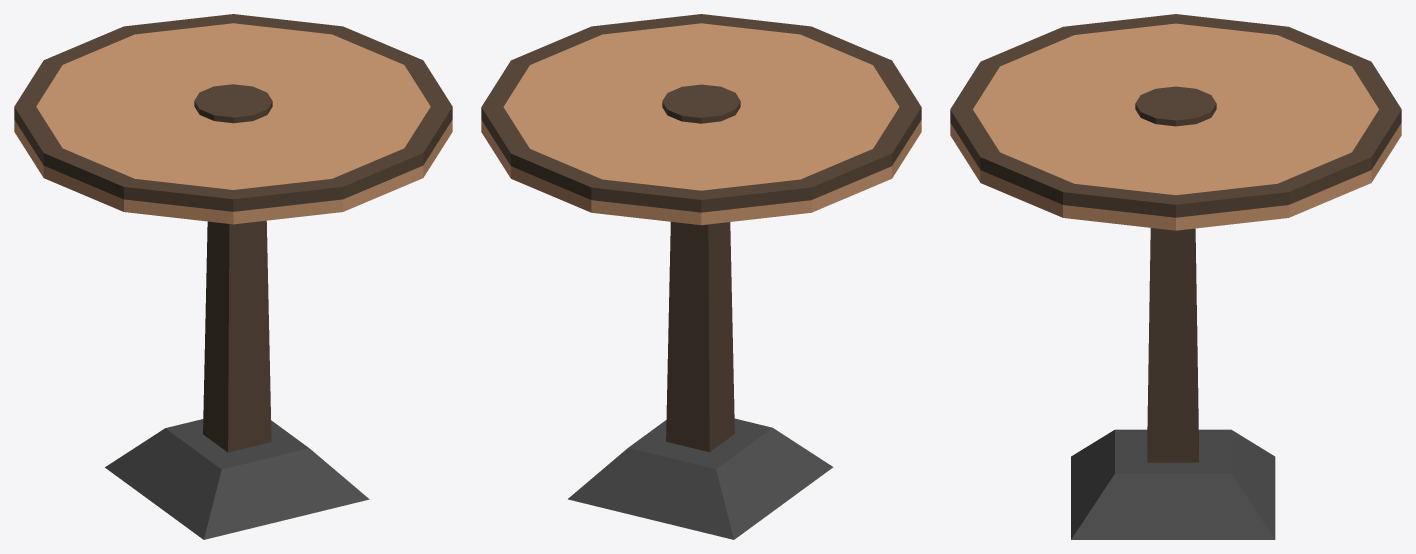
File: Bar Round Table.fbx
The picture shows the model from 3 angles, left to right: view 1: azimuth 30°, elevation 25°; view 2: azimuth 150°, elevation 25°; view 3: azimuth 270°, elevation 25°; orthographic projection. The views are drawn at different scales.
Parts seen in each view (by area): view 1: Bar Round Table; view 2: Bar Round Table; view 3: Bar Round Table.
Part boxes in pixels (left/top/right/bottom): Bar Round Table: left=14, top=14, right=452, bottom=539; Bar Round Table: left=481, top=14, right=921, bottom=539; Bar Round Table: left=950, top=14, right=1401, bottom=539.
Bounding box in the file's own units: 1580 × 1519 × 1580.
